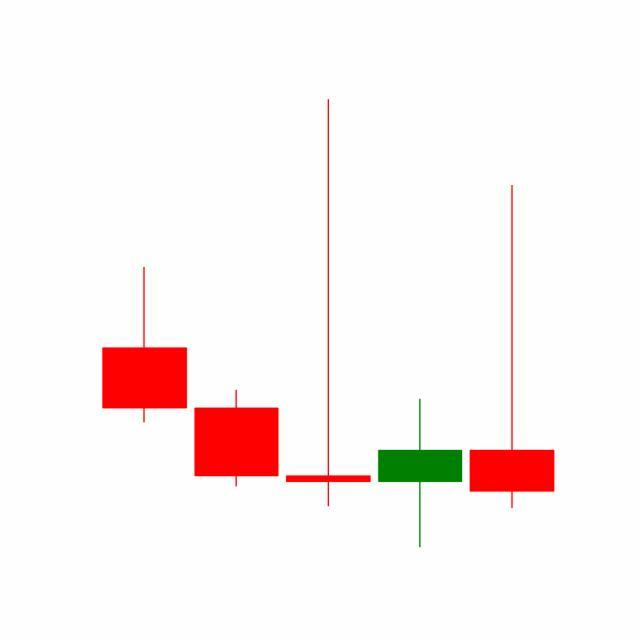Spinning Top: (374, 397, 468, 550)
